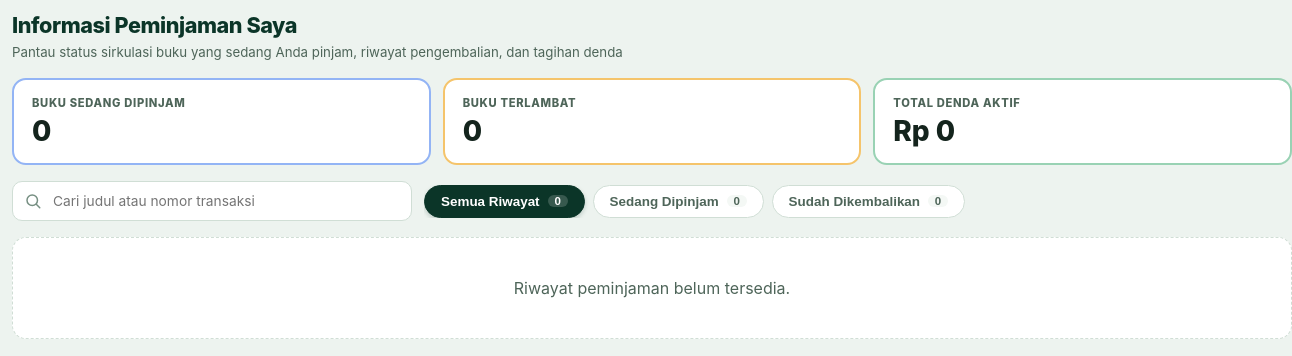
Informasi Peminjaman › mengirim filter status ke backend saat tab dipilih
Expected: the text "Riwayat peminjaman belum tersedia." is shown, 514,278 -> 790,298
Click the tab "Sudah Dikembalikan 0": click(868, 201) 772,184 -> 965,218
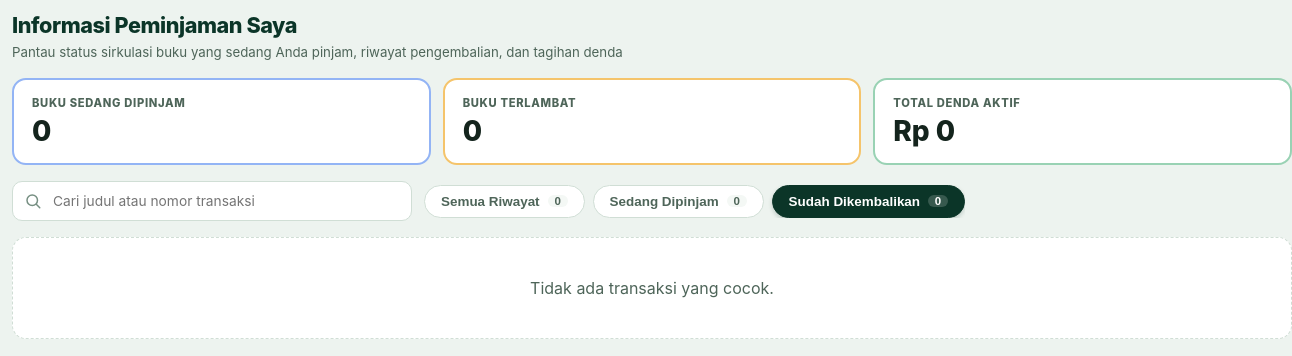
Now the text "Tidak ada transaksi yang cocok." is shown, box 530,278 -> 774,298
